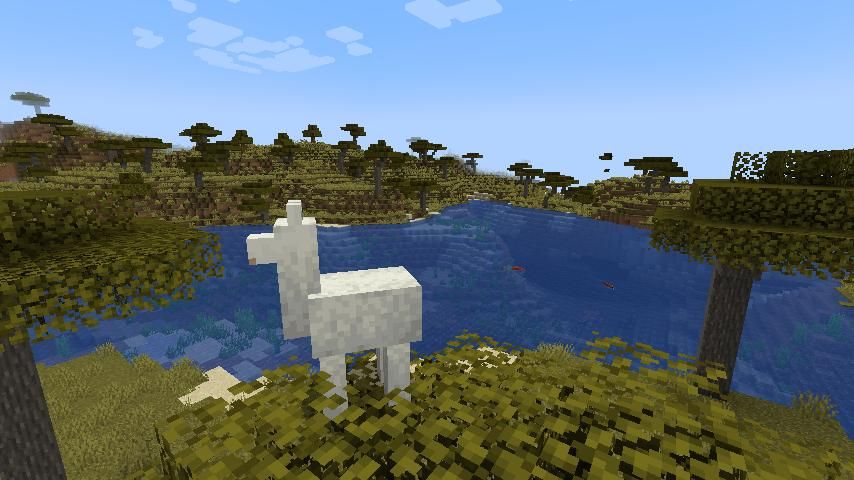llama: (242, 198, 427, 418)
